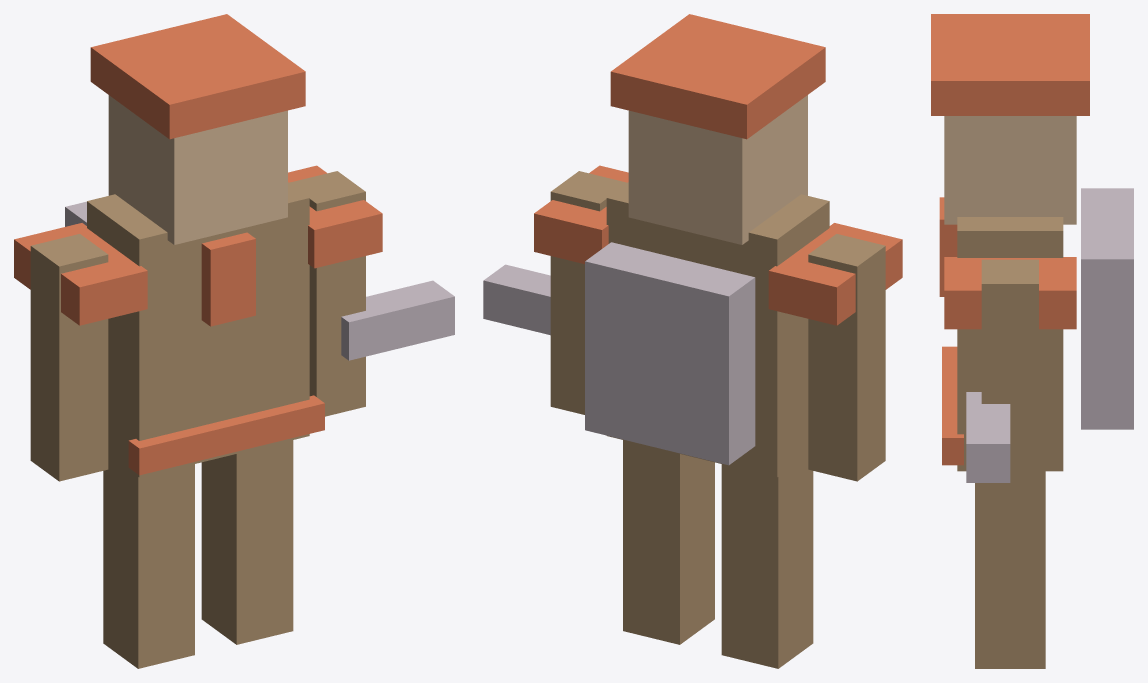
The model's file is 10_bex_trenchmark_sentinel_from_rhyme.glb.
3 views of the same model, side by side, from view 1: azimuth 30°, elevation 25°; view 2: azimuth 150°, elevation 25°; view 3: azimuth 270°, elevation 25° (orthographic).
Visible parts, largest first — view 1: Bex Trenchmark, Sentinel from Rhyme; view 2: Bex Trenchmark, Sentinel from Rhyme; view 3: Bex Trenchmark, Sentinel from Rhyme.
Part boxes in pixels (box(x1,y1,x2,y2)): Bex Trenchmark, Sentinel from Rhyme: box(14, 14, 454, 668); Bex Trenchmark, Sentinel from Rhyme: box(483, 14, 902, 668); Bex Trenchmark, Sentinel from Rhyme: box(931, 14, 1133, 668).
Bounding box in the file's own units: 1.09 × 1.55 × 0.4893.
